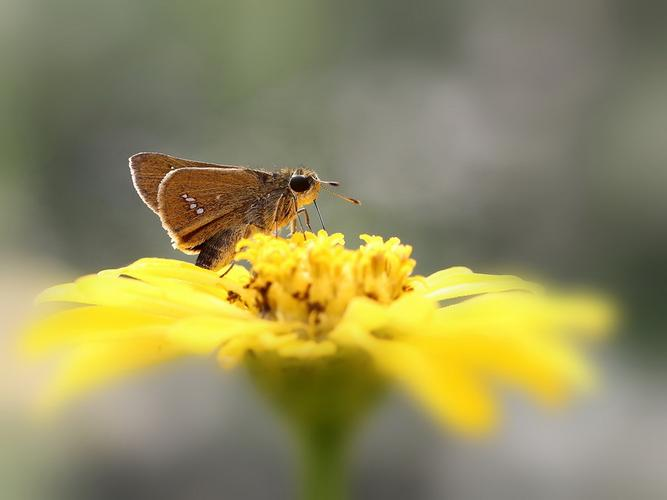Hesperiidae: (125, 143, 362, 271)
